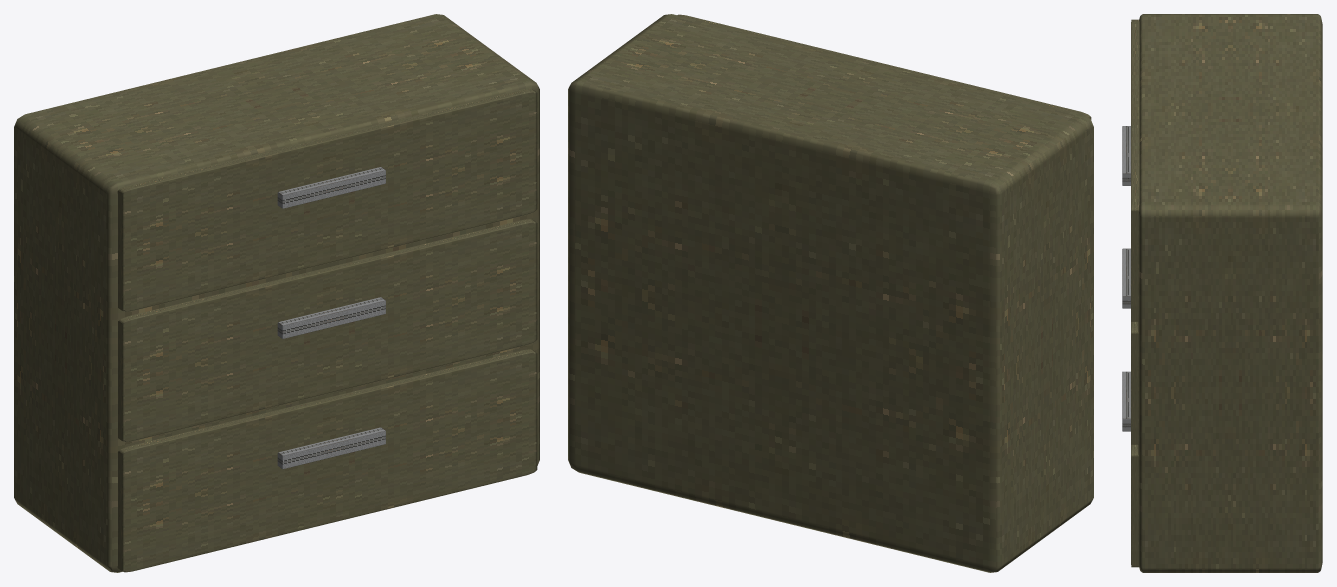
Rendered from upper-cab.glb.
The picture shows the model from 3 angles, left to right: view 1: azimuth 30°, elevation 25°; view 2: azimuth 150°, elevation 25°; view 3: azimuth 270°, elevation 25°; orthographic projection. The views are drawn at different scales.
Visible parts, largest first — view 1: front (×3), case, pull (×3); view 2: case, front; view 3: case, front (×3), pull (×3).
Part boxes in pixels (<box>): front (×3): <box>117,88,537,572</box>; case: <box>14,14,539,572</box>; pull (×3): <box>277,167,385,469</box>; case: <box>568,14,1093,572</box>; front: <box>677,14,1091,119</box>; case: <box>1138,14,1322,572</box>; front (×3): <box>1131,19,1139,567</box>; pull (×3): <box>1122,126,1130,431</box>.
Size of the model in its own units: 0.8 by 0.69 by 0.34.
Materials: 2 (2 with a texture image).
